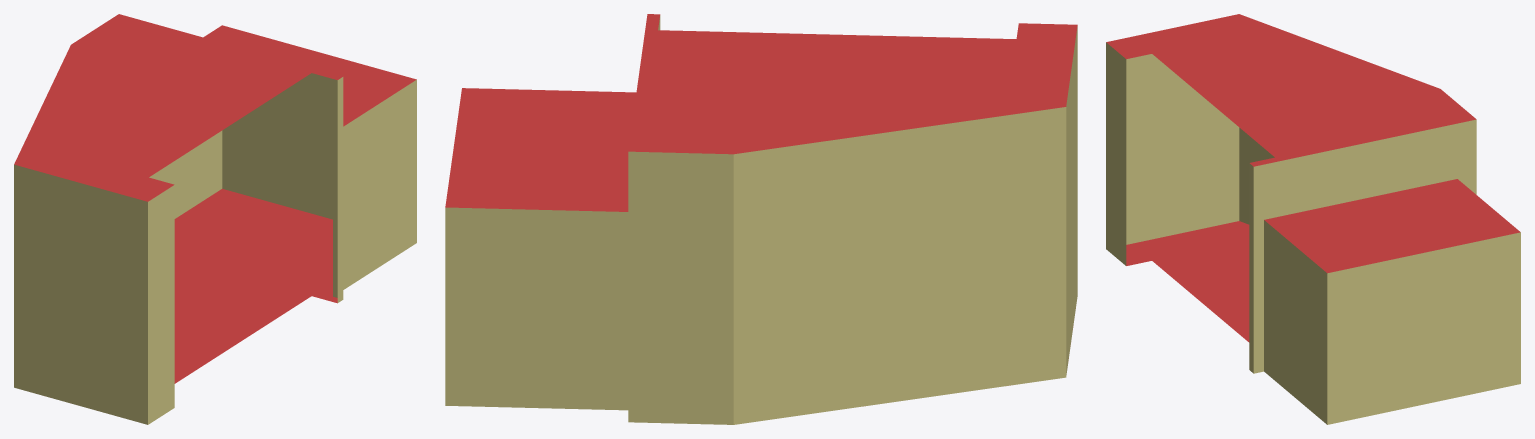
The picture shows the model from 3 angles, left to right: view 1: azimuth 30°, elevation 25°; view 2: azimuth 150°, elevation 25°; view 3: azimuth 270°, elevation 25°; orthographic projection. The views are drawn at different scales.
Parts seen in each view (by area): view 1: group_4, group_3, group_7, group_8, group_5, group_6; view 2: group_4, group_3, group_7, group_6; view 3: group_7, group_4, group_3, group_6, group_5.
Part boxes in pixels (bbox=[...]): group_4: bbox=[14, 73, 343, 424]; group_3: bbox=[14, 14, 342, 201]; group_7: bbox=[149, 80, 416, 289]; group_8: bbox=[174, 188, 332, 296]; group_5: bbox=[174, 253, 337, 383]; group_6: bbox=[203, 25, 416, 126]; group_4: bbox=[628, 15, 1077, 424]; group_3: bbox=[628, 14, 1077, 154]; group_7: bbox=[445, 207, 628, 410]; group_6: bbox=[445, 88, 636, 211]; group_7: bbox=[1264, 220, 1520, 424]; group_4: bbox=[1106, 42, 1476, 373]; group_3: bbox=[1106, 14, 1476, 166]; group_6: bbox=[1264, 179, 1520, 273]; group_5: bbox=[1126, 221, 1249, 342].
Bounding box in the file's own units: 15.98 × 13.73 × 7.56.
